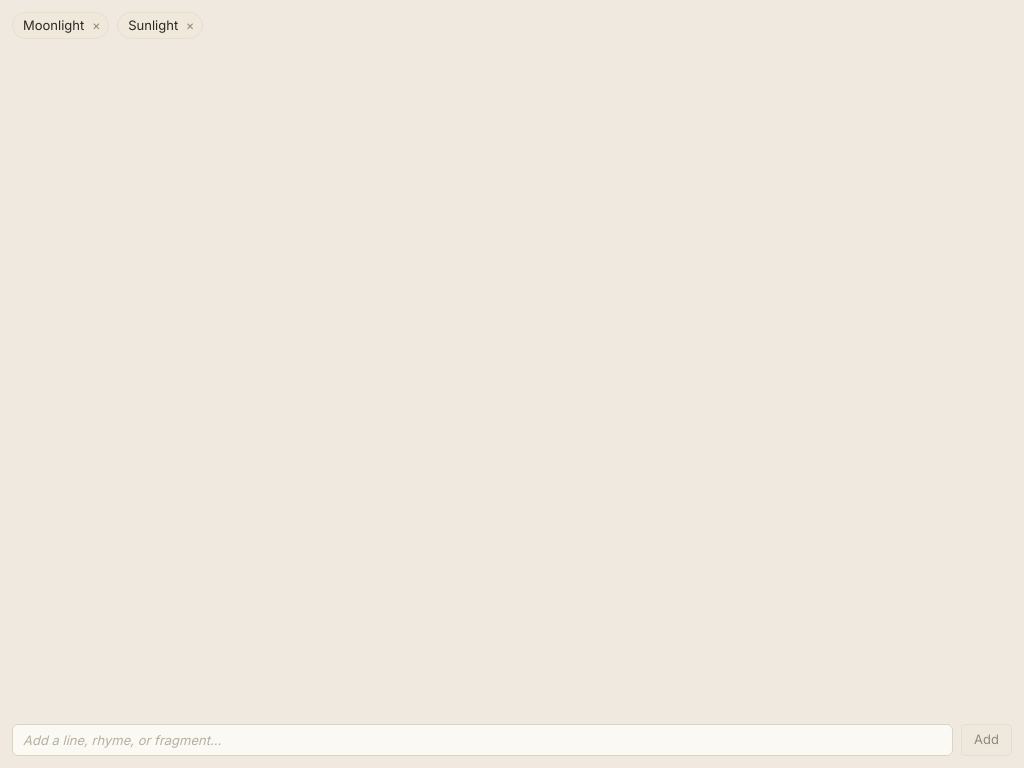
Scenario: Inventory chips (C-11) › T-14.11: removing a chip persists the removal to the draft inventory
Click the 1st button with test id "inventory-chip-remove" at {"x": 96, "y": 25}, box [88,17,104,33]
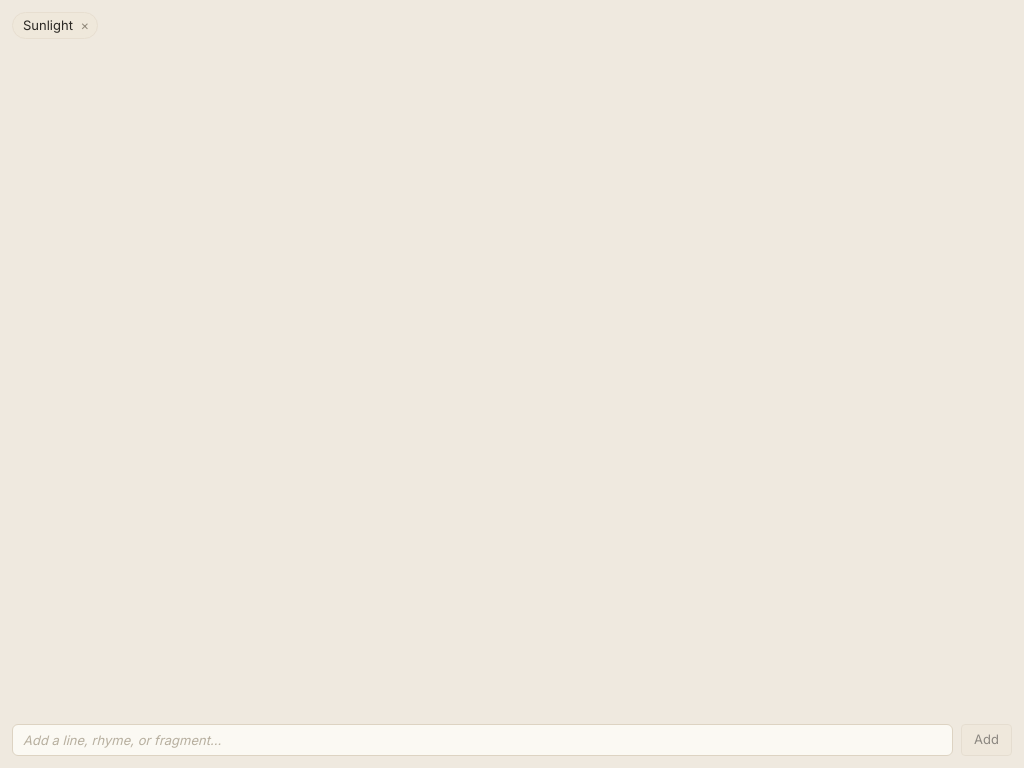
Expected: the button "Sunlight" is shown, [23,17,73,34]
Expected: the button "Moonlight" is gone
